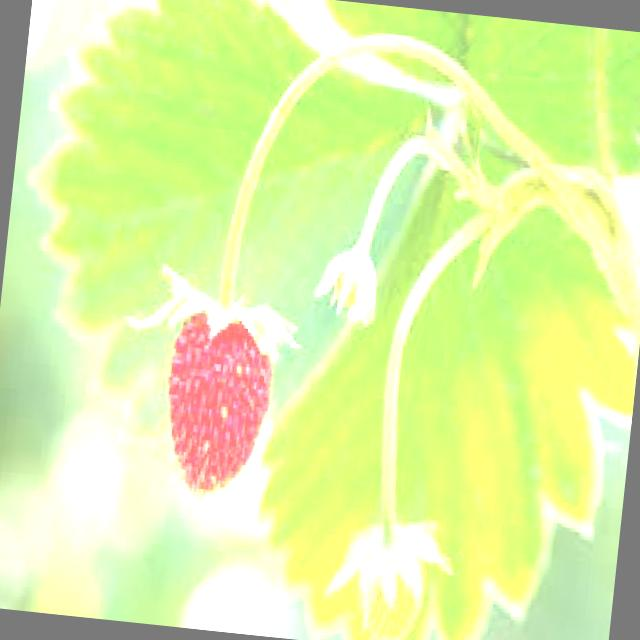Strawberry: (152, 298, 280, 496), (327, 520, 434, 640)
